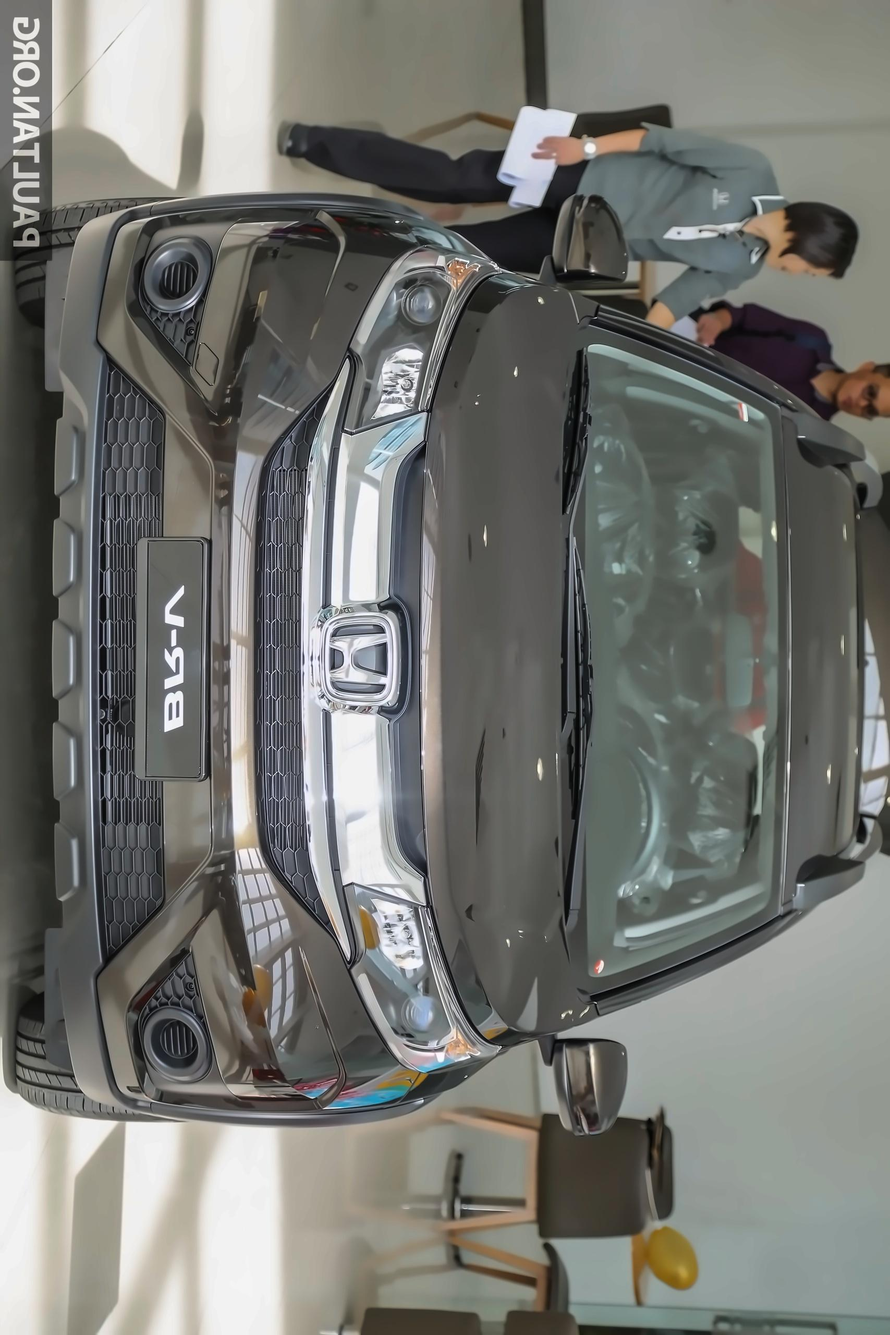Car hood: (417, 266, 589, 1063)
Front bumper: (19, 178, 341, 1146)
Headlight - -L-: (355, 871, 490, 1084)
Headlight - -R-: (320, 243, 485, 440)
Side mirror - -L-: (524, 1007, 629, 1151)
Side mirror - -R-: (535, 180, 636, 305)
